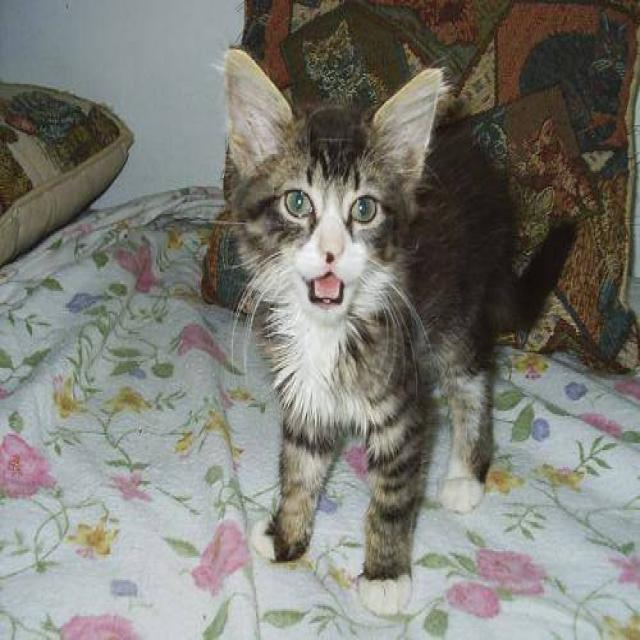cat: (215, 45, 579, 614)
